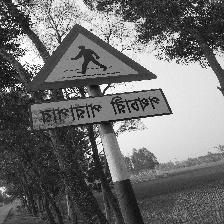Pedestrian-crossing: (23, 24, 170, 130)
